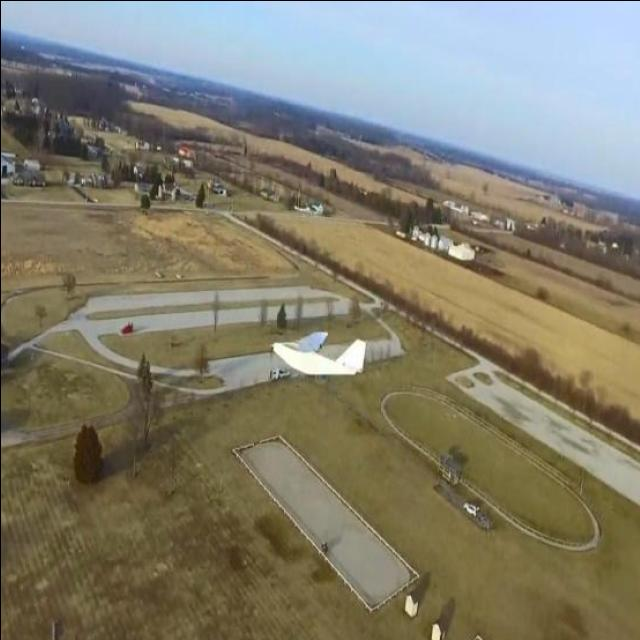plane: (270, 328, 368, 378)
